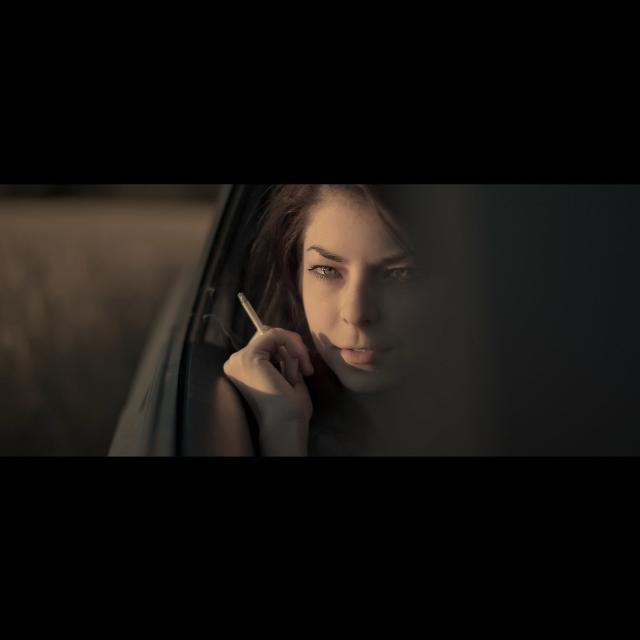rokok: (233, 287, 273, 341)
